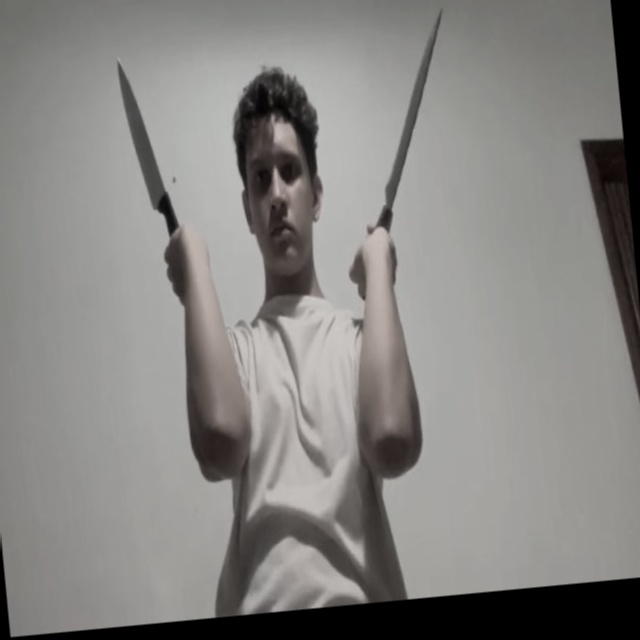Sharp-Object: (368, 9, 460, 209), (116, 55, 163, 200)
